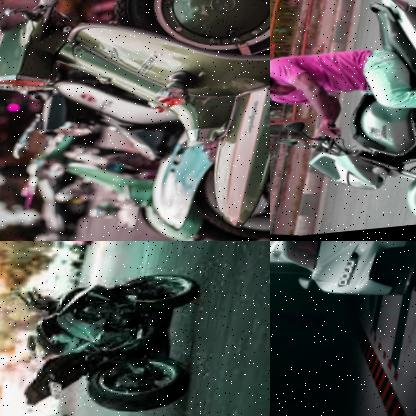bike: (0, 256, 210, 416), (289, 0, 416, 240)
car: (272, 241, 416, 313)
